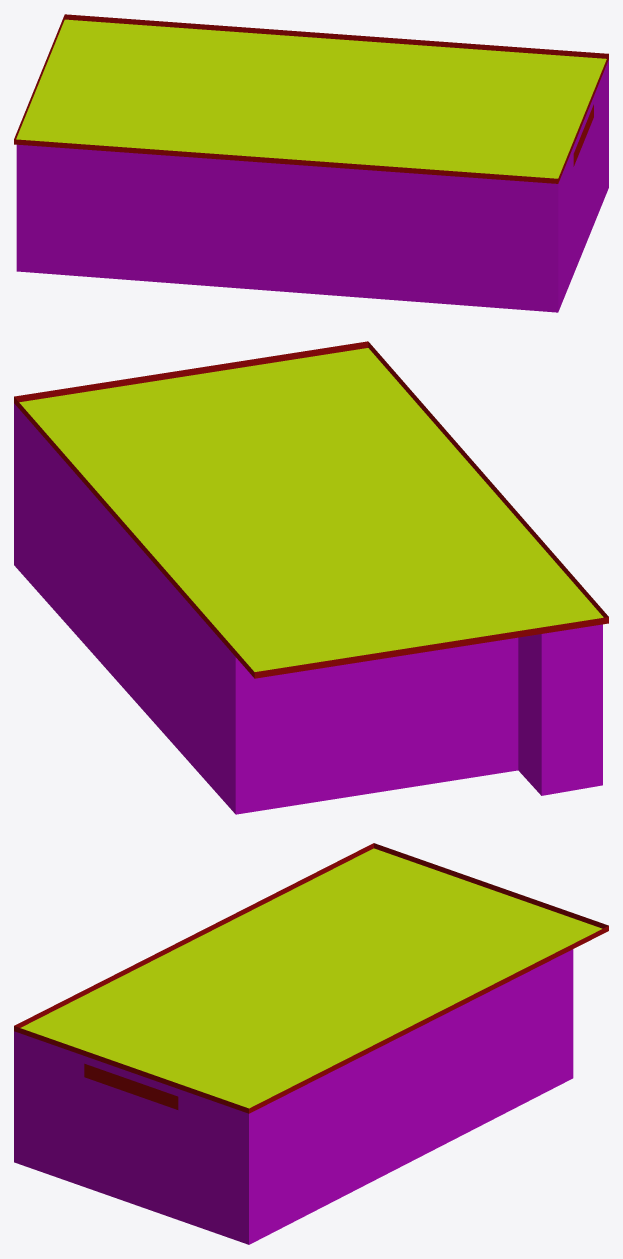
File: niv_113.glb
3 views of the same model, one above another, from view 1: azimuth 30°, elevation 25°; view 2: azimuth 150°, elevation 25°; view 3: azimuth 270°, elevation 25° (orthographic). The views are drawn at different scales.
Parts seen in each view (by area): view 1: niv_113; view 2: niv_113; view 3: niv_113.
Boxes of the visible parts, x1,y1,x2,y2 form: niv_113: (14,14,608,312); niv_113: (14,341,608,814); niv_113: (14,843,608,1244).
Size of the model in its own units: 37.61 by 9.01 by 35.61.
